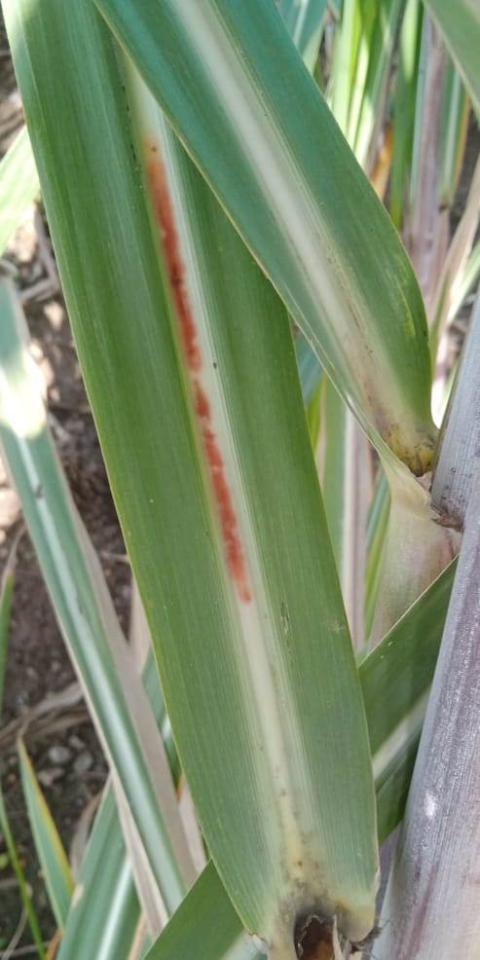RedRot: (191, 377, 254, 604), (146, 135, 204, 374)
